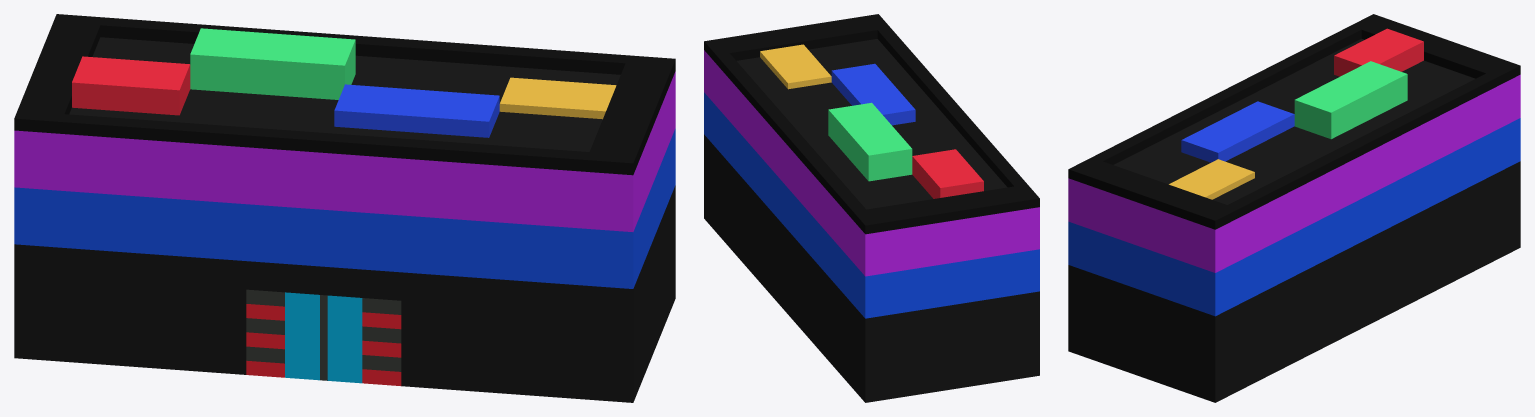
File: Cyber_Build.fbx
The picture shows the model from 3 angles, left to right: view 1: azimuth 30°, elevation 25°; view 2: azimuth 150°, elevation 25°; view 3: azimuth 270°, elevation 25°; orthographic projection. The views are drawn at different scales.
Visible parts, largest first — view 1: Windows1, Bot, Top, House.001, neon2, neon3, Door, neon1, neon4, Details2, Detail1; view 2: Bot, Windows1, Top, House.001, neon2, neon3, neon1, neon4; view 3: Bot, Windows1, Top, House.001, neon2, neon3, neon1, neon4.
Boxes of the visible parts, left/top/right/bottom form: Windows1: left=14, top=71, right=675, bottom=288; Bot: left=14, top=185, right=675, bottom=402; Top: left=14, top=14, right=675, bottom=175; House.001: left=69, top=37, right=620, bottom=151; neon2: left=190, top=28, right=355, bottom=99; neon3: left=334, top=84, right=499, bottom=137; Door: left=285, top=292, right=362, bottom=383; neon1: left=72, top=56, right=190, bottom=115; neon4: left=499, top=77, right=616, bottom=119; Details2: left=246, top=289, right=401, bottom=371; Detail1: left=246, top=304, right=401, bottom=385; Bot: left=704, top=134, right=1039, bottom=402; Windows1: left=704, top=50, right=1039, bottom=318; Top: left=704, top=14, right=1039, bottom=234; House.001: left=737, top=39, right=1007, bottom=209; neon2: left=828, top=102, right=912, bottom=181; neon3: left=831, top=63, right=915, bottom=125; neon1: left=912, top=149, right=983, bottom=198; neon4: left=760, top=44, right=831, bottom=89; Bot: left=1068, top=161, right=1520, bottom=402; Windows1: left=1068, top=74, right=1520, bottom=316; Top: left=1068, top=14, right=1520, bottom=229; House.001: left=1114, top=38, right=1475, bottom=204; neon2: left=1294, top=61, right=1407, bottom=139; neon3: left=1181, top=101, right=1294, bottom=162; neon1: left=1334, top=28, right=1423, bottom=76; neon4: left=1169, top=159, right=1254, bottom=199.
Bounding box in the file's own units: 1025 × 461 × 947.
Materials: 11 (11 with a texture image).
